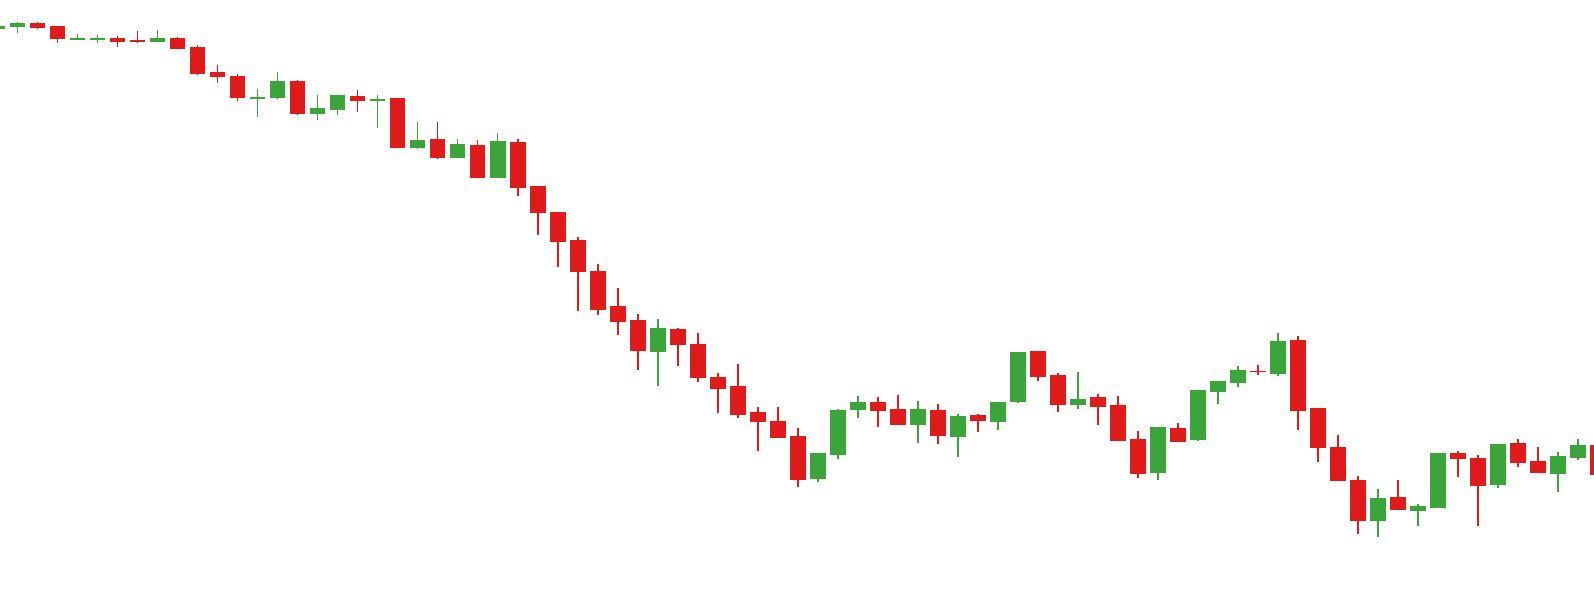buy: (951, 395, 1167, 481)
